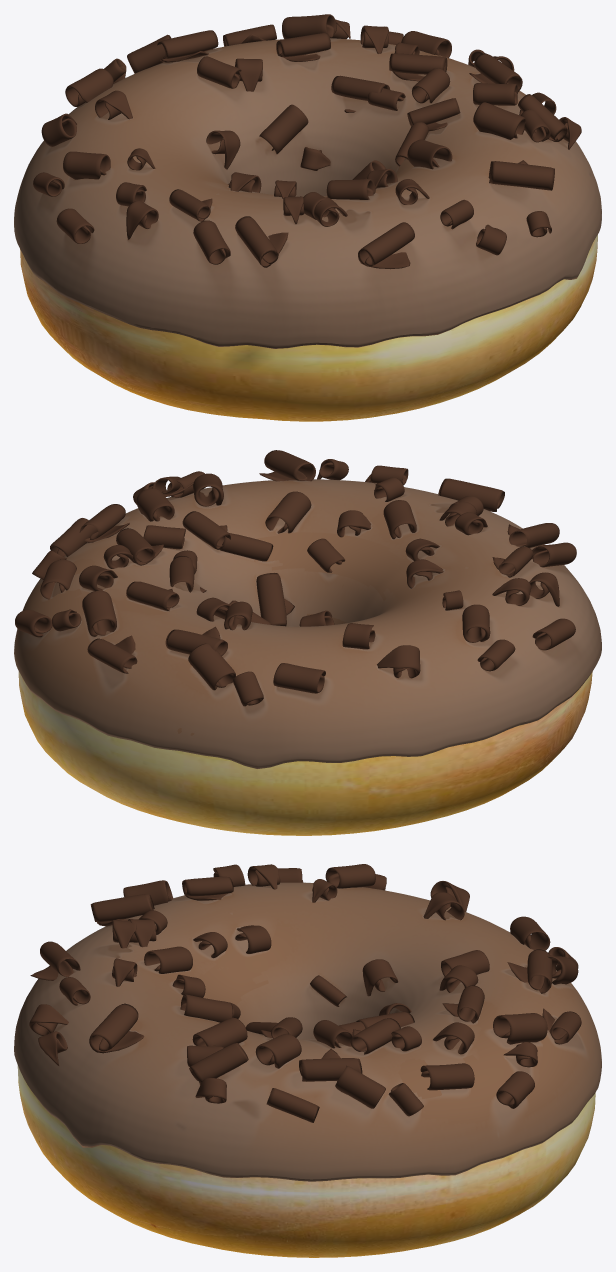
Rendered from coffee dark curls.glb.
The picture shows the model from 3 angles, top to bottom: view 1: azimuth 30°, elevation 25°; view 2: azimuth 150°, elevation 25°; view 3: azimuth 270°, elevation 25°; orthographic projection. The views are drawn at different scales.
Visible parts, largest first — view 1: coffee.001, coffee, choco & straw curls, Torus; view 2: coffee, coffee.001, choco & straw curls, Torus; view 3: coffee, coffee.001, choco & straw curls, Torus.
Boxes of the visible parts, box(x1,y1,x2,y2) form: coffee.001: box(14, 38, 601, 348); coffee: box(14, 38, 601, 348); choco & straw curls: box(33, 14, 581, 269); Torus: box(20, 234, 597, 421); coffee: box(14, 479, 596, 768); coffee.001: box(14, 479, 601, 768); choco & straw curls: box(15, 450, 576, 706); Torus: box(18, 671, 592, 835); coffee: box(15, 882, 601, 1181); coffee.001: box(14, 882, 601, 1181); choco & straw curls: box(29, 864, 581, 1122); Torus: box(17, 1065, 595, 1257).
Bounding box in the file's own units: 0.1996 × 0.0804 × 0.1979.
4 materials, 2 textured.
